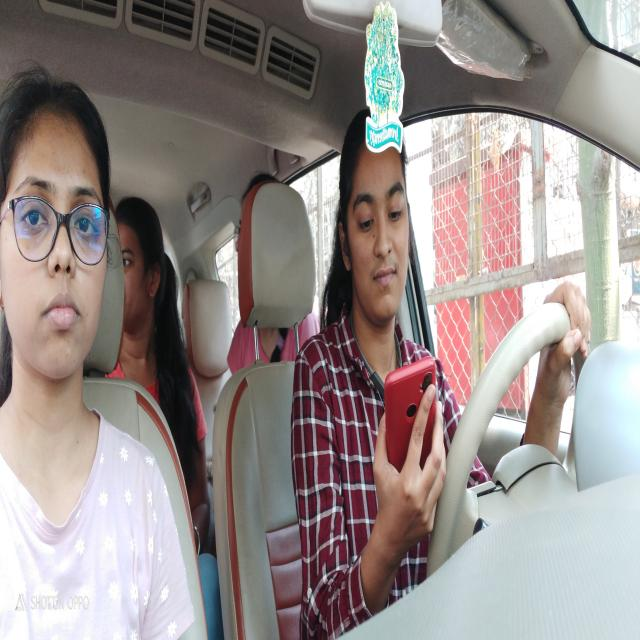mobile: (381, 366, 436, 464)
person: (0, 72, 112, 382), (338, 118, 413, 327), (116, 193, 172, 343)
